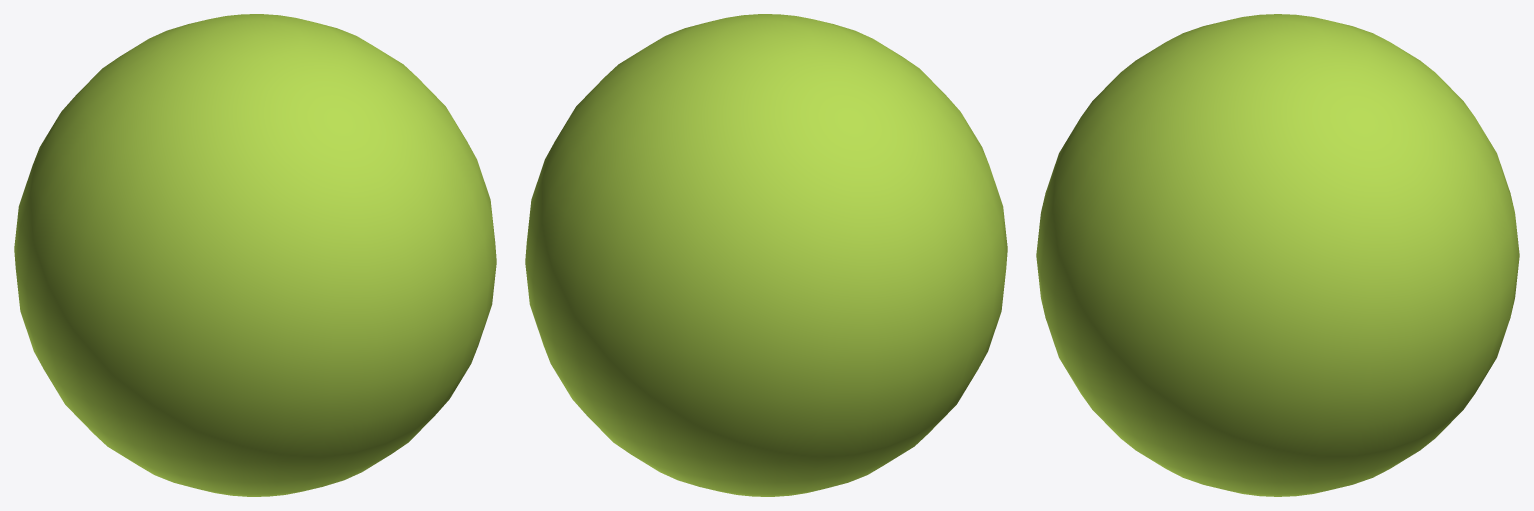
3 views of the same model, side by side, from view 1: azimuth 30°, elevation 25°; view 2: azimuth 150°, elevation 25°; view 3: azimuth 270°, elevation 25° (orthographic).
Parts seen in each view (by area): view 1: Sphere; view 2: Sphere; view 3: Sphere.
Part boxes in pixels (box(x1,y1,x2,y2)): Sphere: box(14, 14, 496, 496); Sphere: box(525, 14, 1007, 496); Sphere: box(1036, 14, 1519, 496).
Size of the model in its own units: 2 by 2 by 2.
